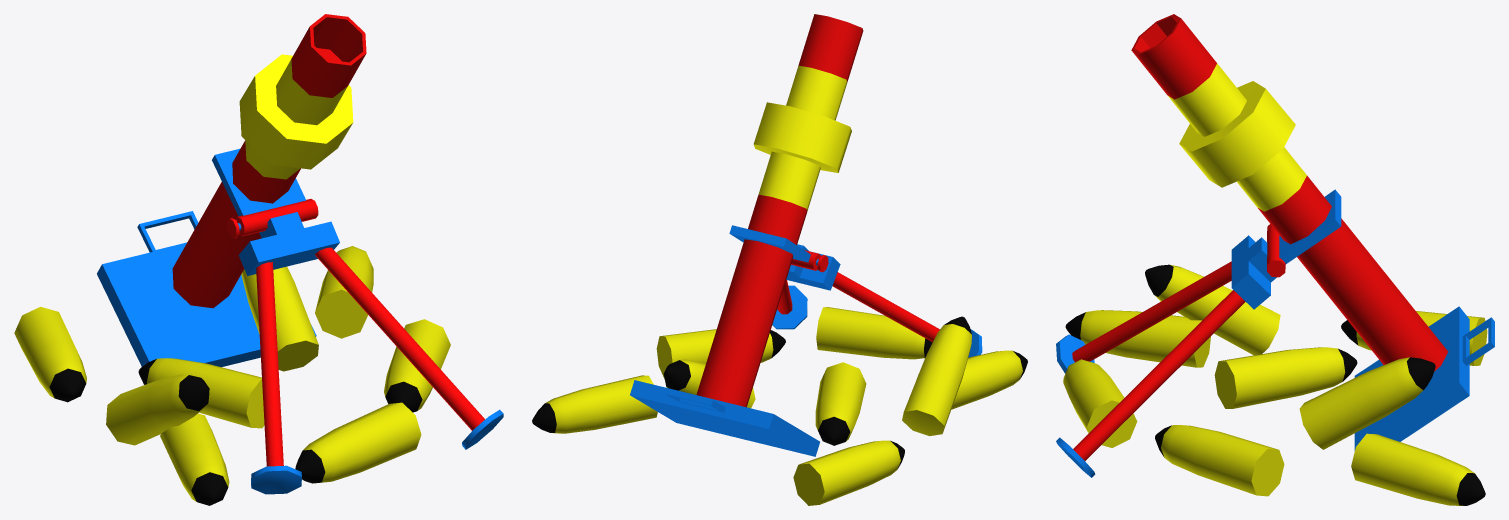
The model's file is Mortier_lvl3.fbx.
3 renders of one model, left to right at view 1: azimuth 30°, elevation 25°; view 2: azimuth 150°, elevation 25°; view 3: azimuth 270°, elevation 25°, orthographic. The views are drawn at different scales.
Visible parts, largest first — view 1: Mortier_LVL3; view 2: Mortier_LVL3; view 3: Mortier_LVL3.
Boxes of the visible parts, x1=… form: Mortier_LVL3: x1=14, y1=14, x2=503, y2=505; Mortier_LVL3: x1=532, y1=14, x2=1027, y2=505; Mortier_LVL3: x1=1056, y1=14, x2=1494, y2=505.
Size of the model in its own units: 94.03 by 103 by 99.75.
